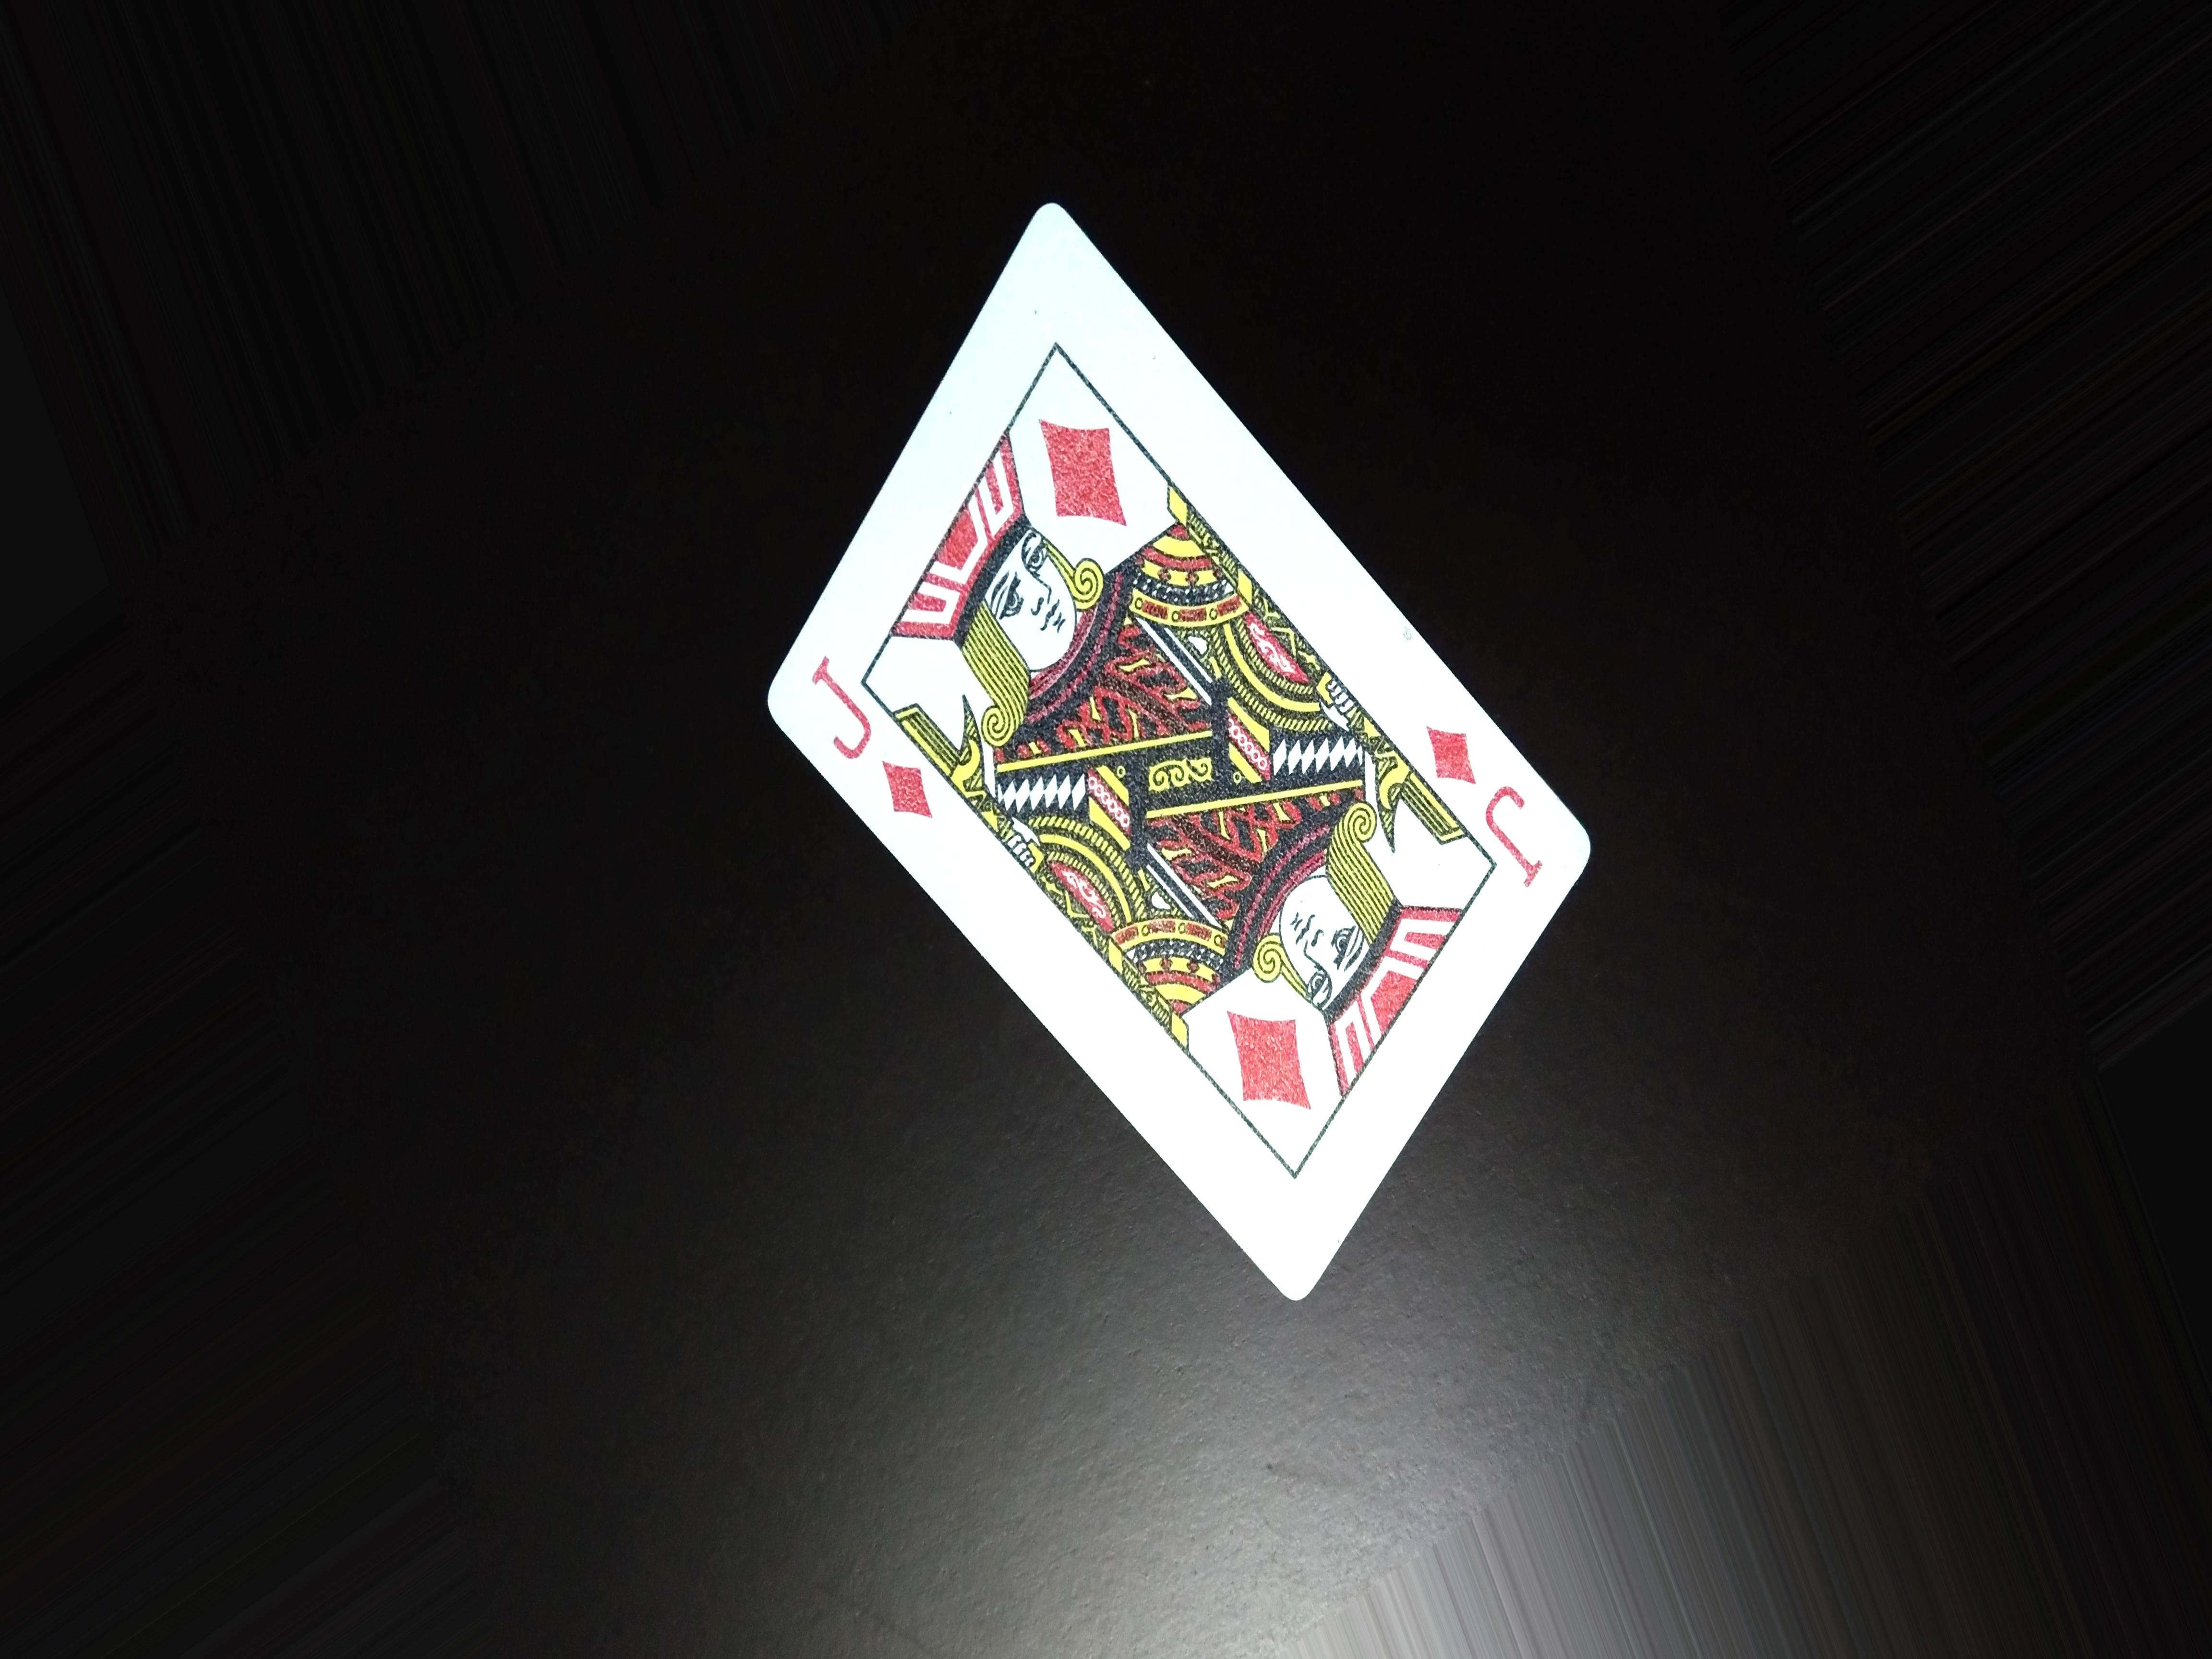JD: (808, 655, 928, 828)
